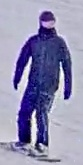snowboarder: (0, 10, 72, 162), (71, 85, 72, 86)
